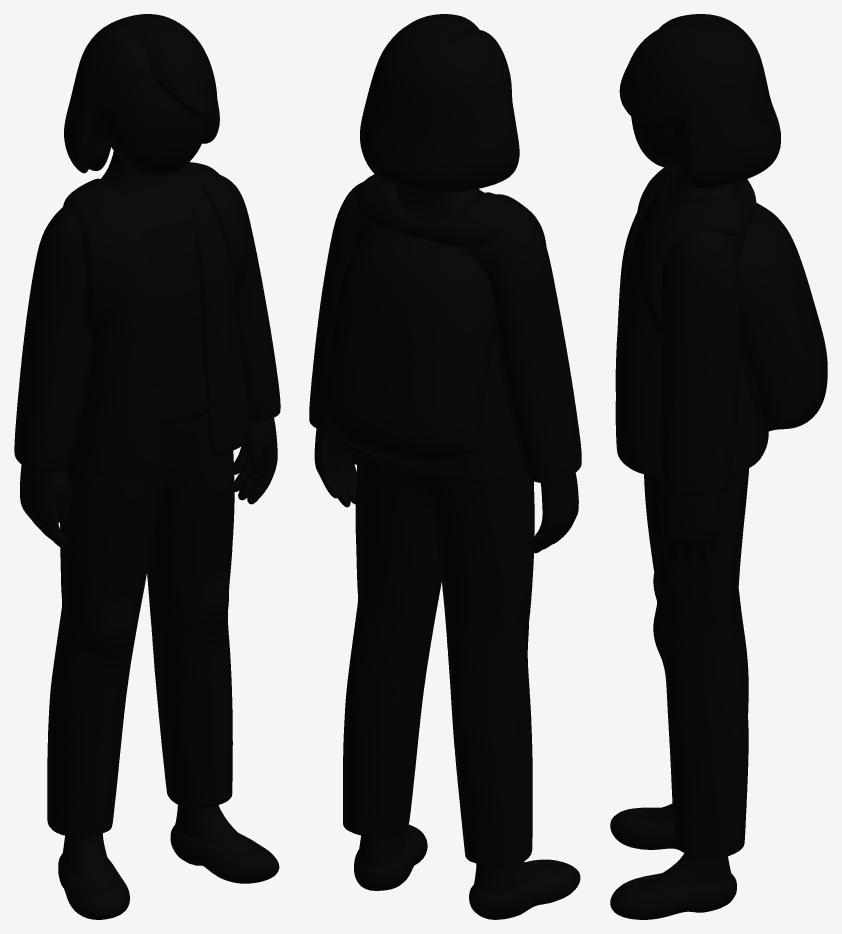
File: passenger-female.glb
3 views of the same model, side by side, from view 1: azimuth 30°, elevation 25°; view 2: azimuth 150°, elevation 25°; view 3: azimuth 270°, elevation 25° (orthographic). The views are drawn at different scales.
Size of the model in its own units: 0.3108 by 1 by 0.2315.
1 material, 1 textured.
